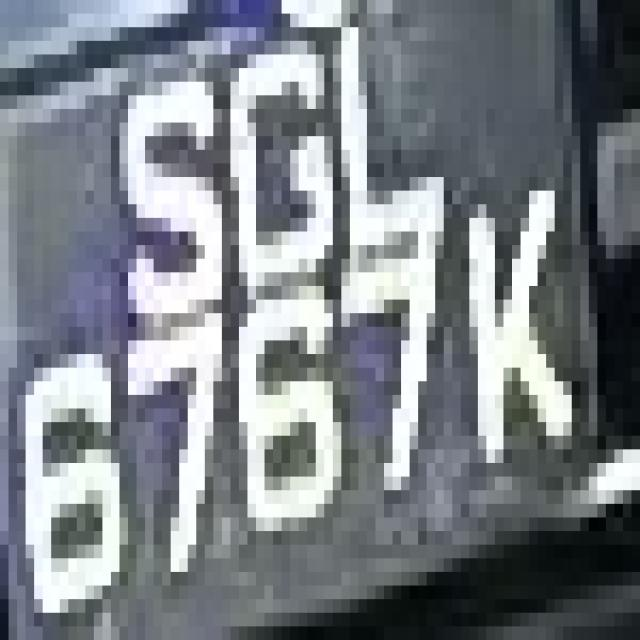6: (17, 299, 128, 640), (222, 286, 358, 558)
7: (324, 218, 478, 504), (102, 286, 230, 572)
G: (196, 68, 324, 327)
K: (426, 163, 588, 504)
L: (307, 13, 452, 232)
S: (94, 55, 230, 313)
